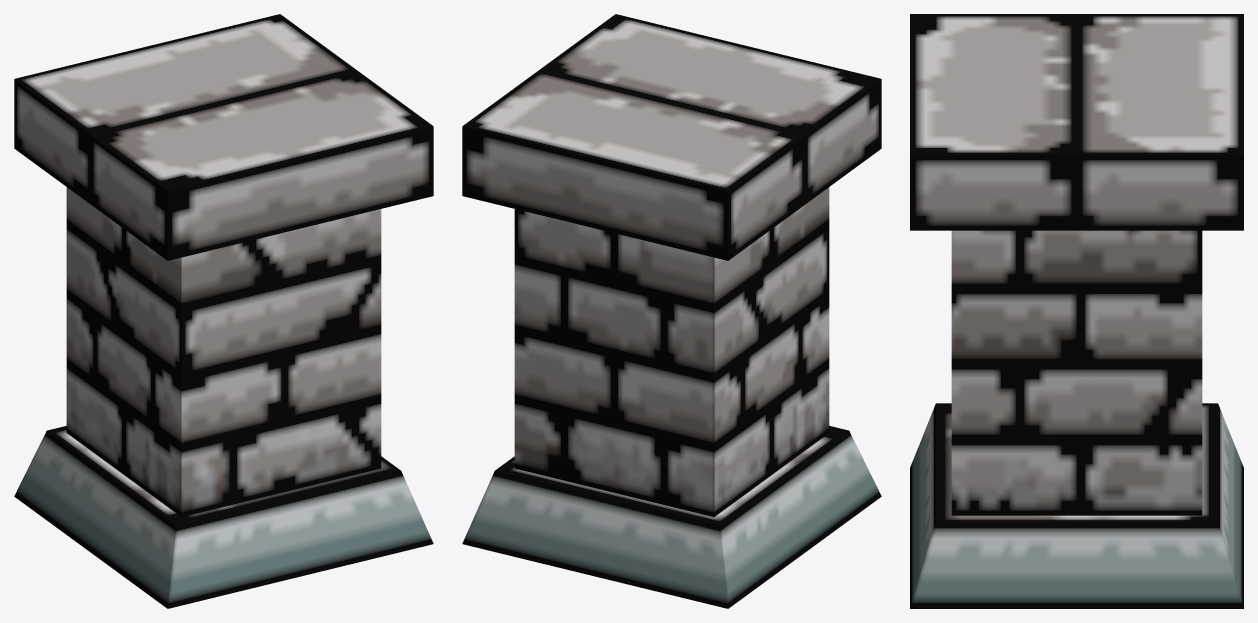
Rendered from deco_winter_wallEnd.FBX.
The picture shows the model from 3 angles, left to right: view 1: azimuth 30°, elevation 25°; view 2: azimuth 150°, elevation 25°; view 3: azimuth 270°, elevation 25°; orthographic projection. The views are drawn at different scales.
Parts seen in each view (by area): view 1: deco_winter_wallEnd; view 2: deco_winter_wallEnd; view 3: deco_winter_wallEnd.
Boxes of the visible parts, <box> form: deco_winter_wallEnd: <box>14,14,433,608</box>; deco_winter_wallEnd: <box>462,14,881,608</box>; deco_winter_wallEnd: <box>910,14,1243,608</box>.
Bounding box in the file's own units: 1 × 1.5 × 1.
Materials: 1 (1 with a texture image).
